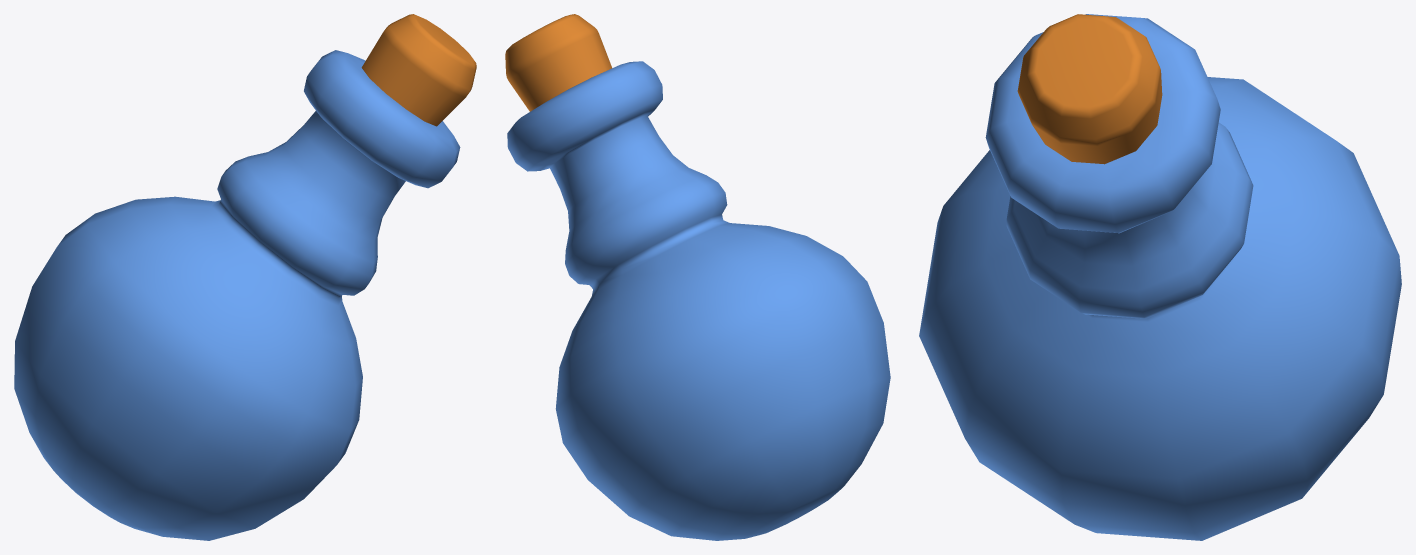
3 views of the same model, side by side, from view 1: azimuth 30°, elevation 25°; view 2: azimuth 150°, elevation 25°; view 3: azimuth 270°, elevation 25° (orthographic). The views are drawn at different scales.
Visible parts, largest first — view 1: model_1.124; view 2: model_1.124; view 3: model_1.124.
Boxes of the visible parts, bbox=[...] form: model_1.124: bbox=[14, 14, 476, 540]; model_1.124: bbox=[505, 14, 890, 540]; model_1.124: bbox=[919, 14, 1401, 540].
Size of the model in its own units: 3.88 by 4.32 by 3.01.
